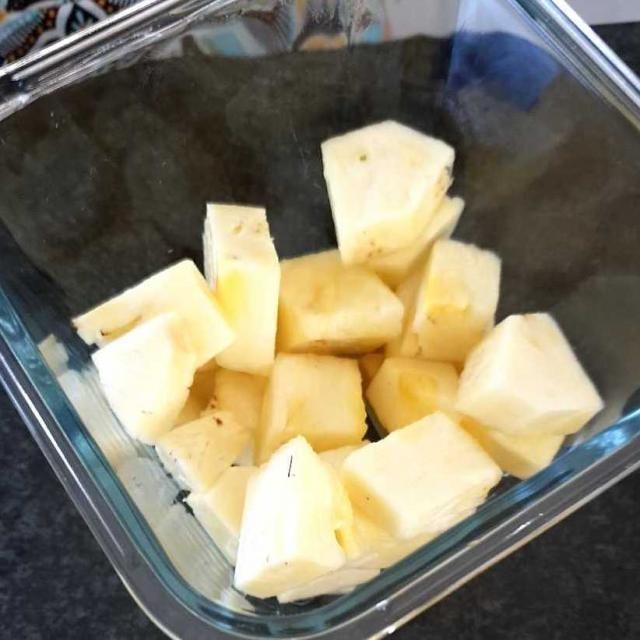pineapple: (65, 123, 620, 626)
